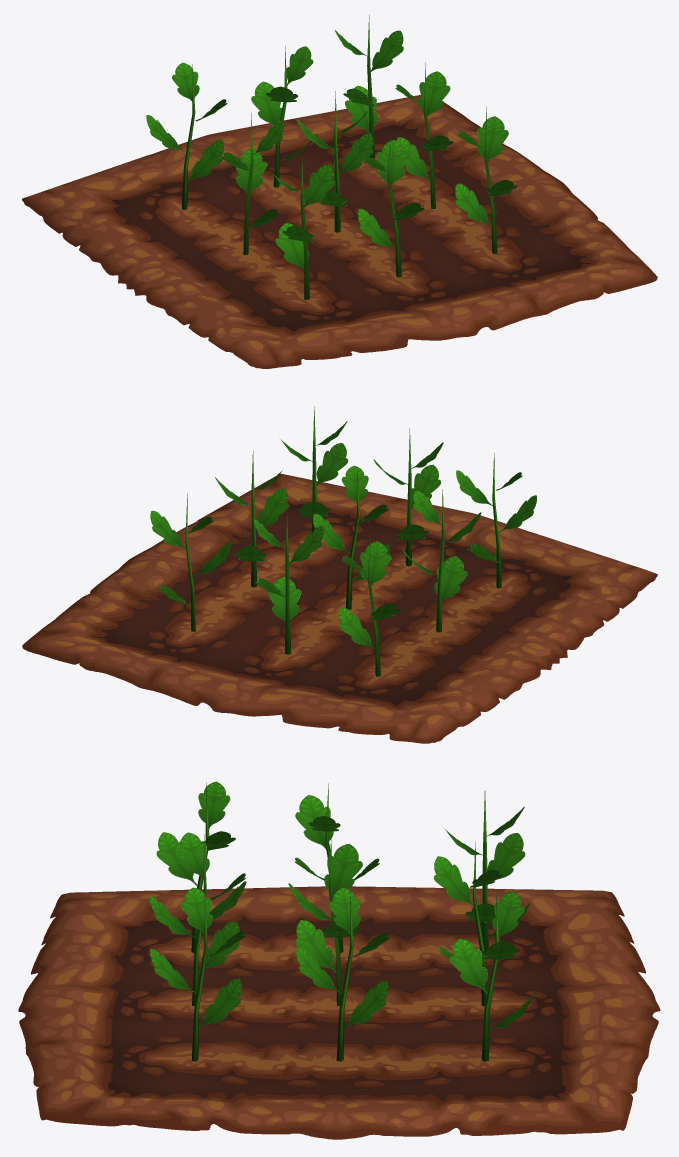
The model's file is EggPlant_Field_Lv1.FBX.
3 views of the same model, one above another, from view 1: azimuth 30°, elevation 25°; view 2: azimuth 150°, elevation 25°; view 3: azimuth 270°, elevation 25° (orthographic). The views are drawn at different scales.
Visible parts, largest first — view 1: EggPlant_Field_Lv1; view 2: EggPlant_Field_Lv1; view 3: EggPlant_Field_Lv1.
Boxes of the visible parts, x1,y1,x2,y2 form: EggPlant_Field_Lv1: [22, 15, 657, 368]; EggPlant_Field_Lv1: [22, 406, 657, 743]; EggPlant_Field_Lv1: [18, 781, 660, 1139].
Bounding box in the file's own units: 274 × 89.52 × 296.
